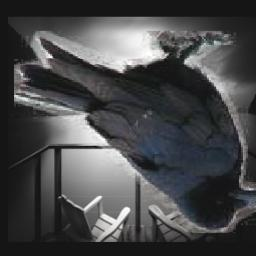Crow: (15, 31, 256, 233)
